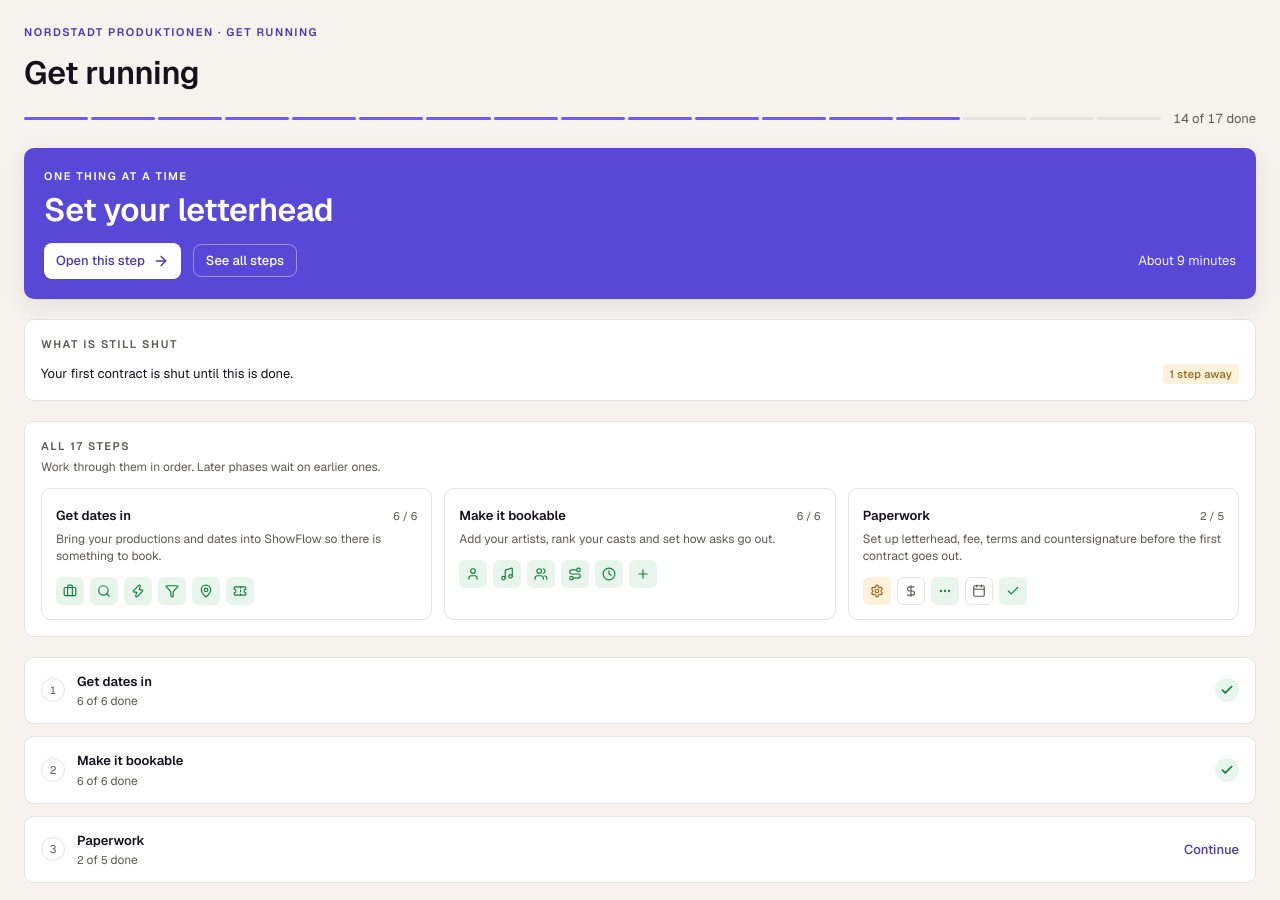
Test: GetRunningBoardV3 › shows the board with three phase rows and expands a phase inline on click
Check: the button with test id "phase-row-get_dates" is shown, box [25,658,1255,723]
Check: the button with test id "phase-row-bookable" is shown, box [25,737,1255,802]
The whole bar is the trigger now (the row itself is the button), so click the row.
Click the button with test id "phase-row-paperwork" at (111, 840), box [25,816,1255,882]
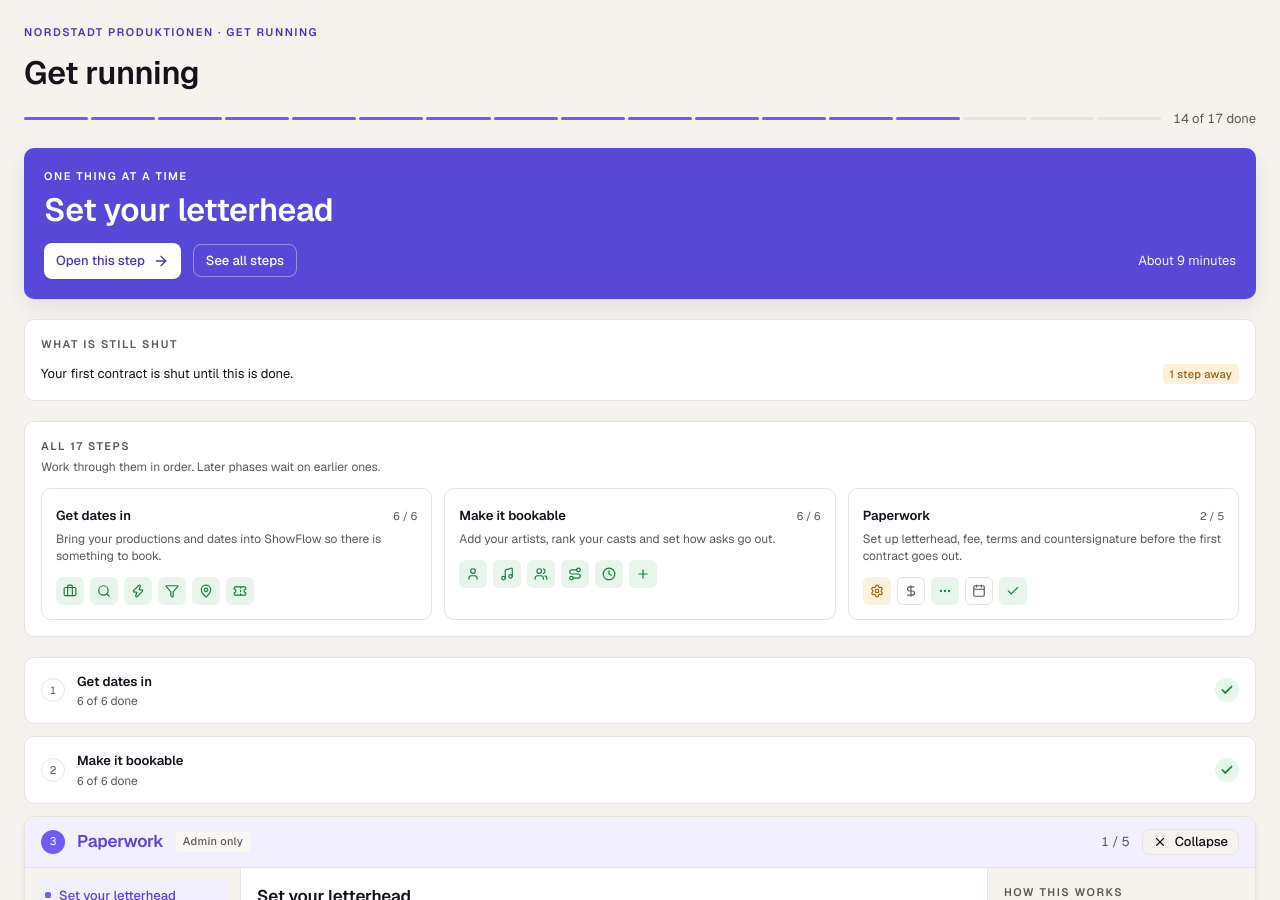
Check: the button with test id "phase-row-paperwork" is gone
Check: the button "Collapse" is shown, box [1142,828,1239,854]
Check: the text "How this works" is shown, box [1004,884,1123,898]
